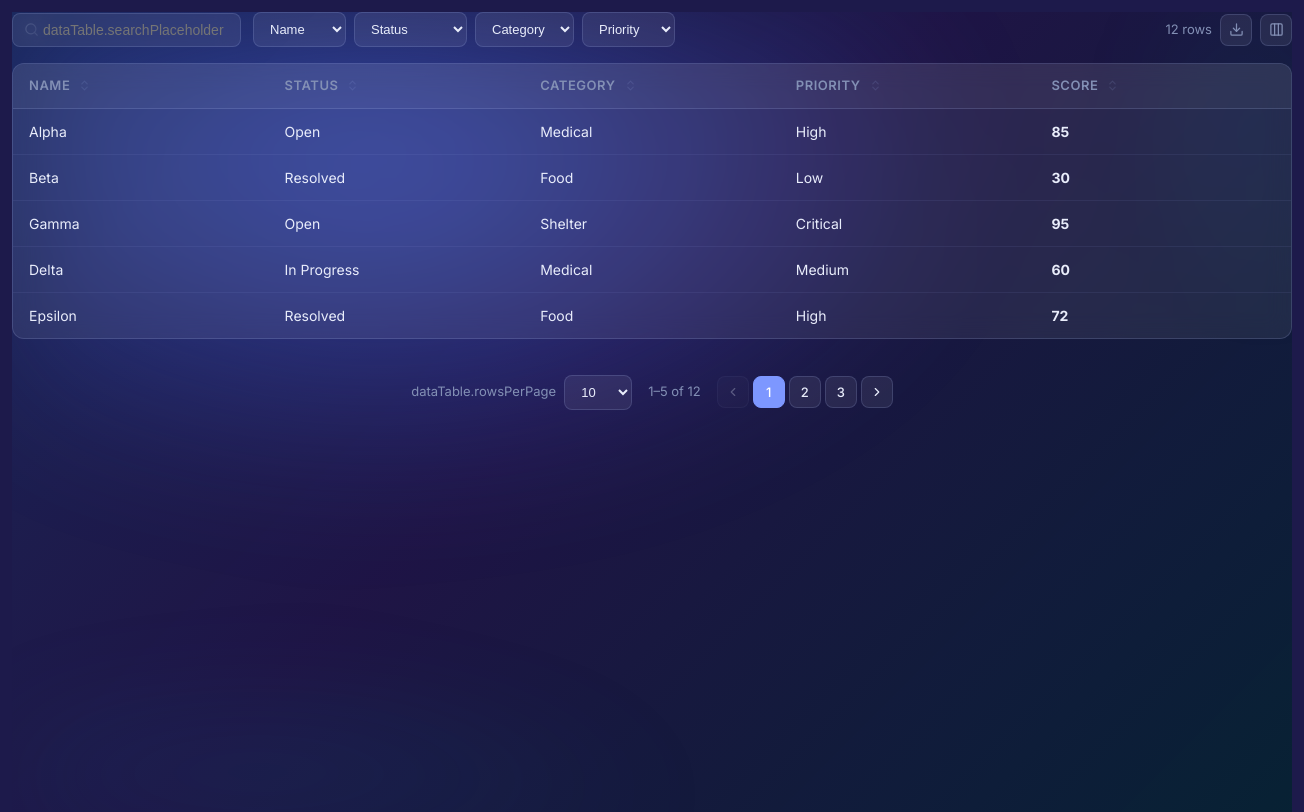
DataTable › Pagination › navigates back to previous page
Step 1. Click the button named "dataTable.nextPage" → (877, 392), box x1=861 y1=376 x2=893 y2=408
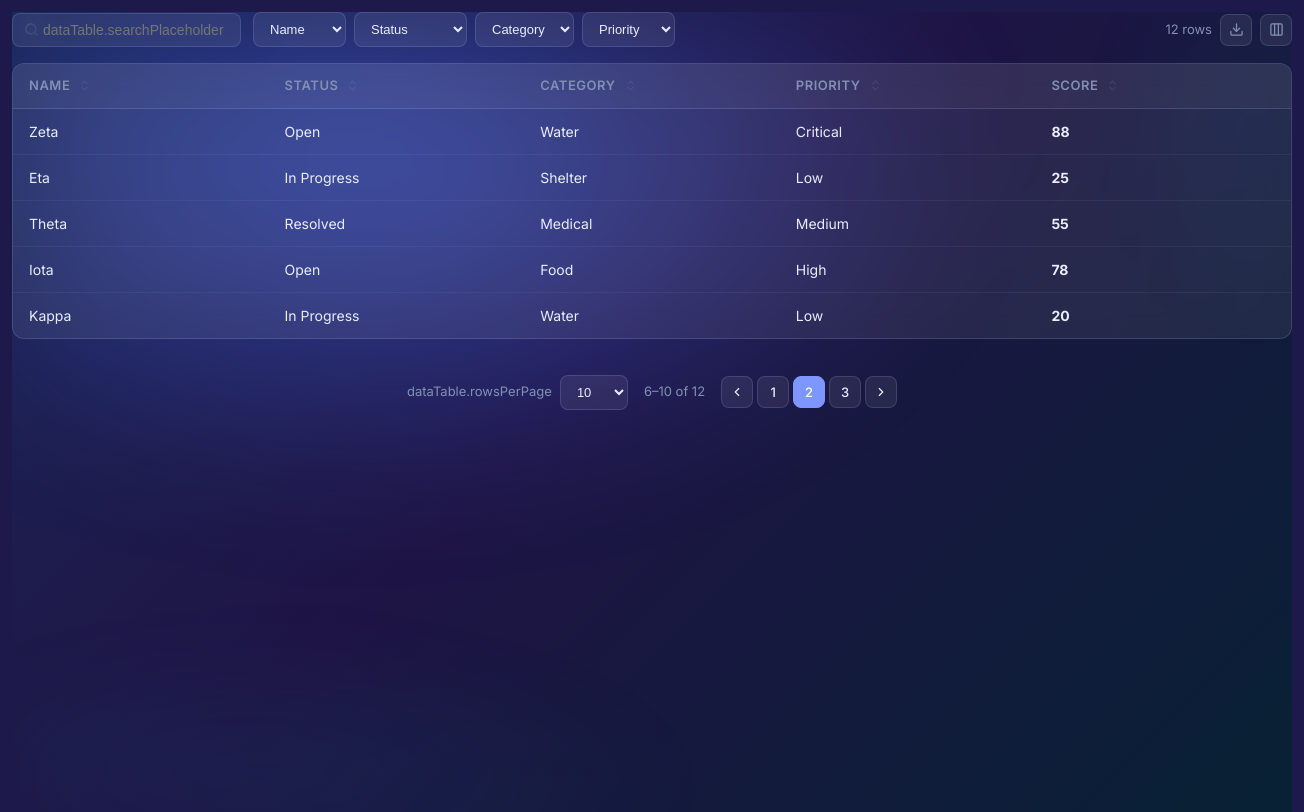
Step 2. Click the button named "dataTable.previousPage" → (737, 392), box x1=721 y1=376 x2=753 y2=408
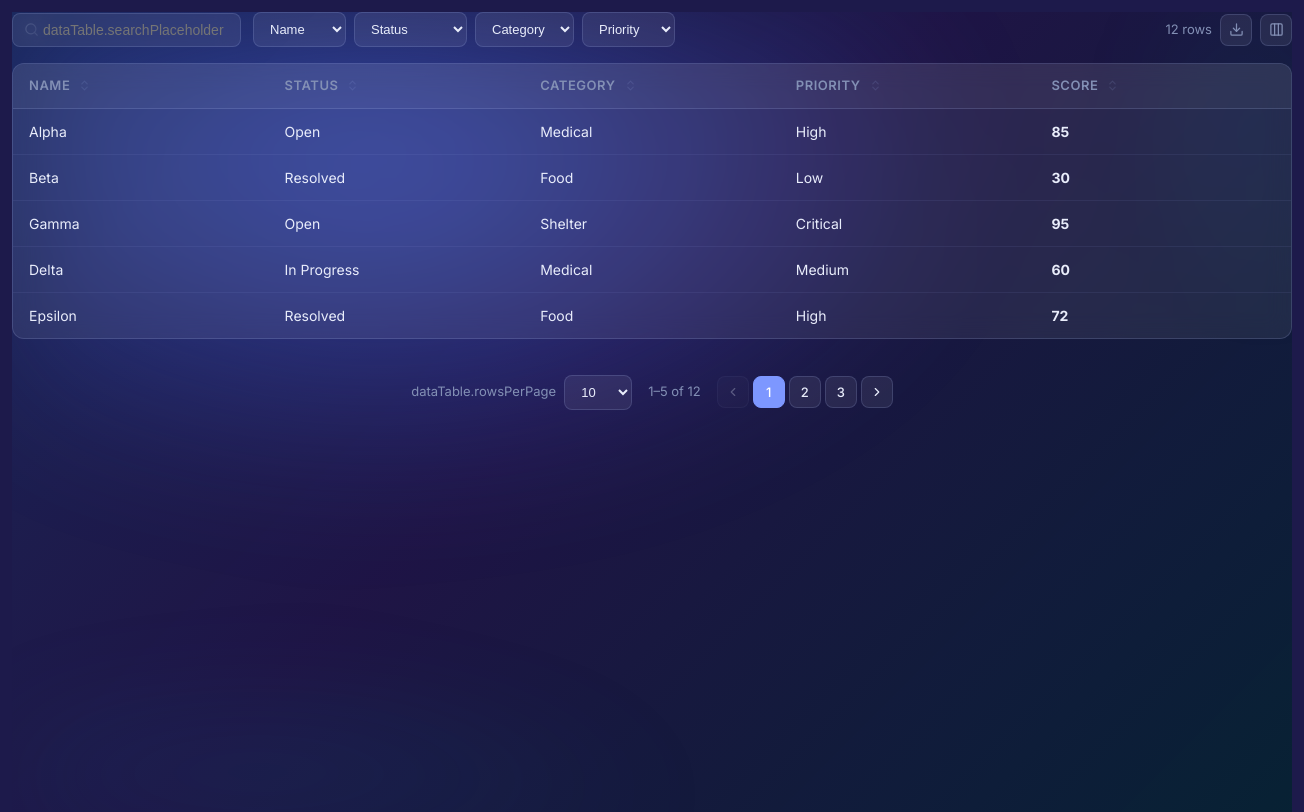
Expected: the row with class "dt-tr" shows "Alpha", x1=29 y1=122 x2=67 y2=140
